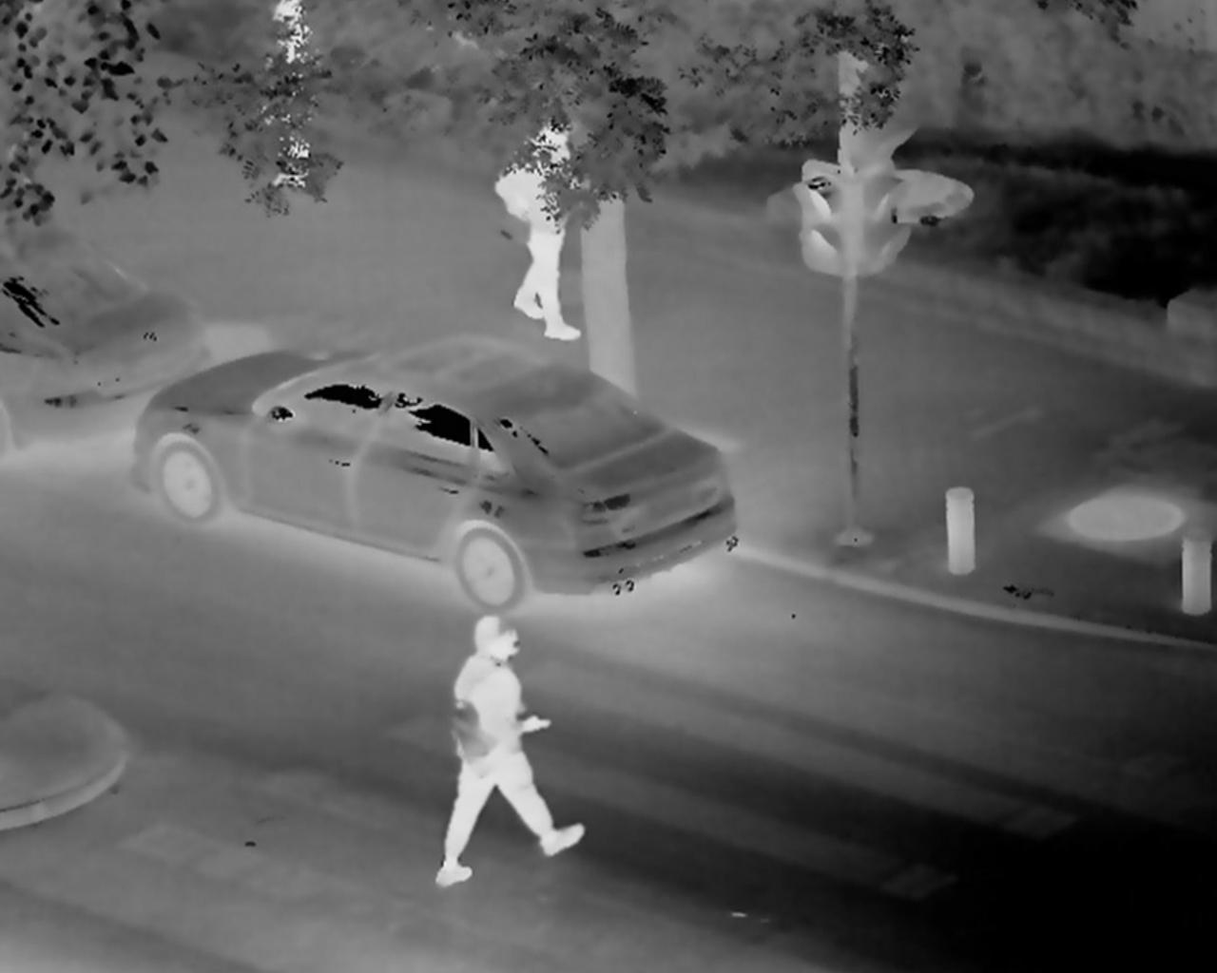person: (439, 612, 589, 897), (489, 121, 590, 356)
